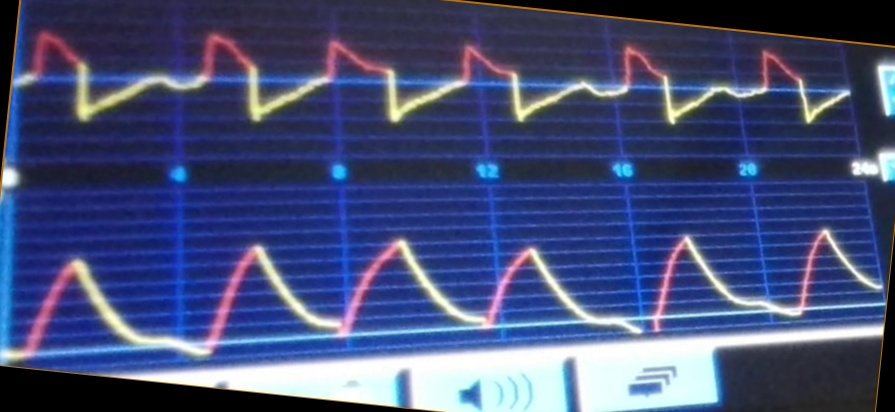Ineffective_effort Flow: (22, 27, 848, 138)
Ineffective_effort Volume: (13, 227, 880, 358)
